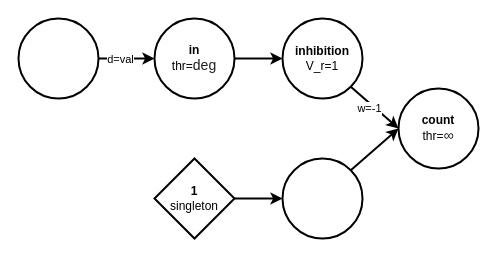
Some shapes in this 496 by 256 pixel diagram are drawn without their labels. The centre of each missing label's shape, as x and y in pixels:
const_fire v_r=1: (322,198)
out V_init=deg+1 thr= deg: (58,58)
